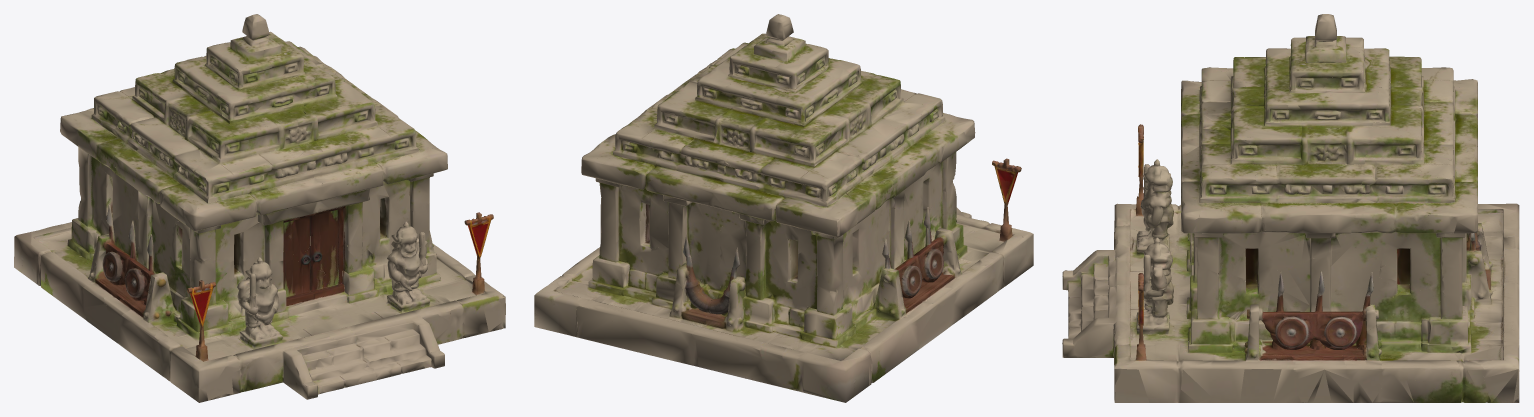
File: barak_mobile.glb
The picture shows the model from 3 angles, left to right: view 1: azimuth 30°, elevation 25°; view 2: azimuth 150°, elevation 25°; view 3: azimuth 270°, elevation 25°; orthographic projection. The views are drawn at different scales.
Parts seen in each view (by area): view 1: Mesh_0; view 2: Mesh_0; view 3: Mesh_0.
Boxes of the visible parts, x1,y1,x2,y2 form: Mesh_0: (14,14,505,402); Mesh_0: (534,14,1033,402); Mesh_0: (1062,14,1519,402).
Bounding box in the file's own units: 1.61 × 1.4 × 1.9.
1 material, 1 textured.
